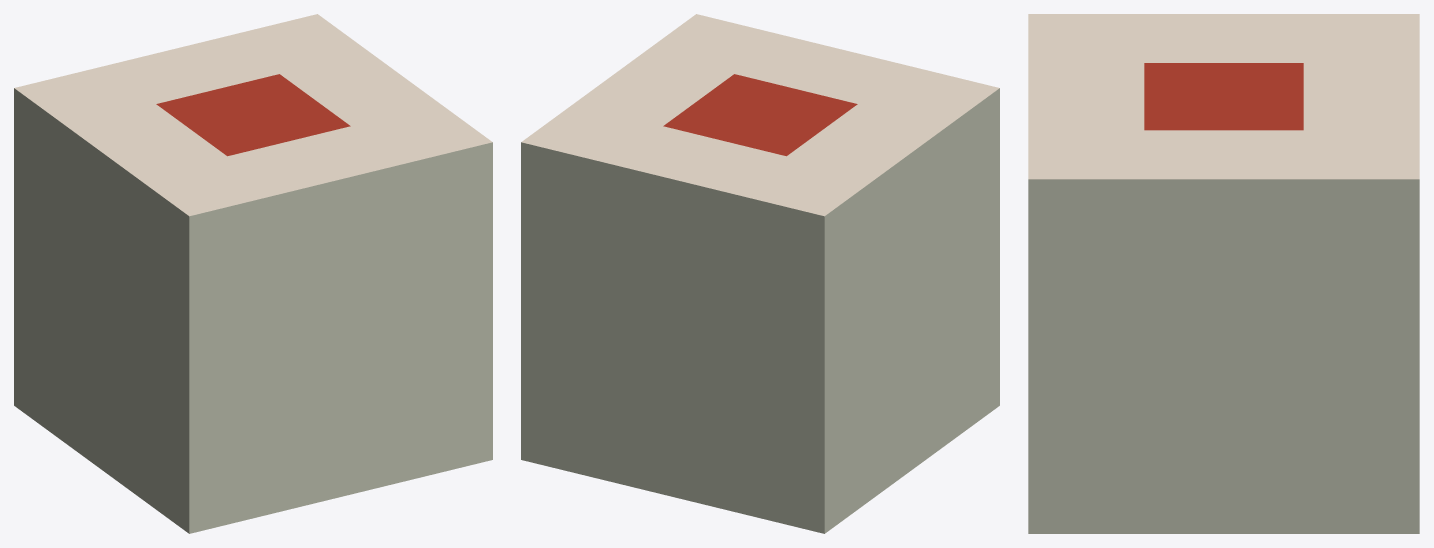
Rendered from base_block_5x5_buildable.fbx.
3 views of the same model, side by side, from view 1: azimuth 30°, elevation 25°; view 2: azimuth 150°, elevation 25°; view 3: azimuth 270°, elevation 25° (orthographic). The views are drawn at different scales.
Visible parts, largest first — view 1: base_block_5x5_buildable; view 2: base_block_5x5_buildable; view 3: base_block_5x5_buildable.
Part boxes in pixels (left/top/right/bottom): base_block_5x5_buildable: left=14, top=14, right=492, bottom=533; base_block_5x5_buildable: left=521, top=14, right=999, bottom=533; base_block_5x5_buildable: left=1028, top=14, right=1419, bottom=533.
Size of the model in its own units: 5 by 5 by 5.
